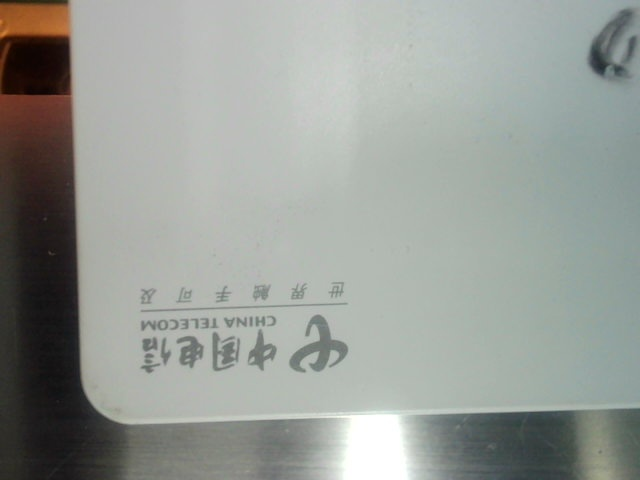AB_ChinaTelecom: (127, 273, 354, 376)
